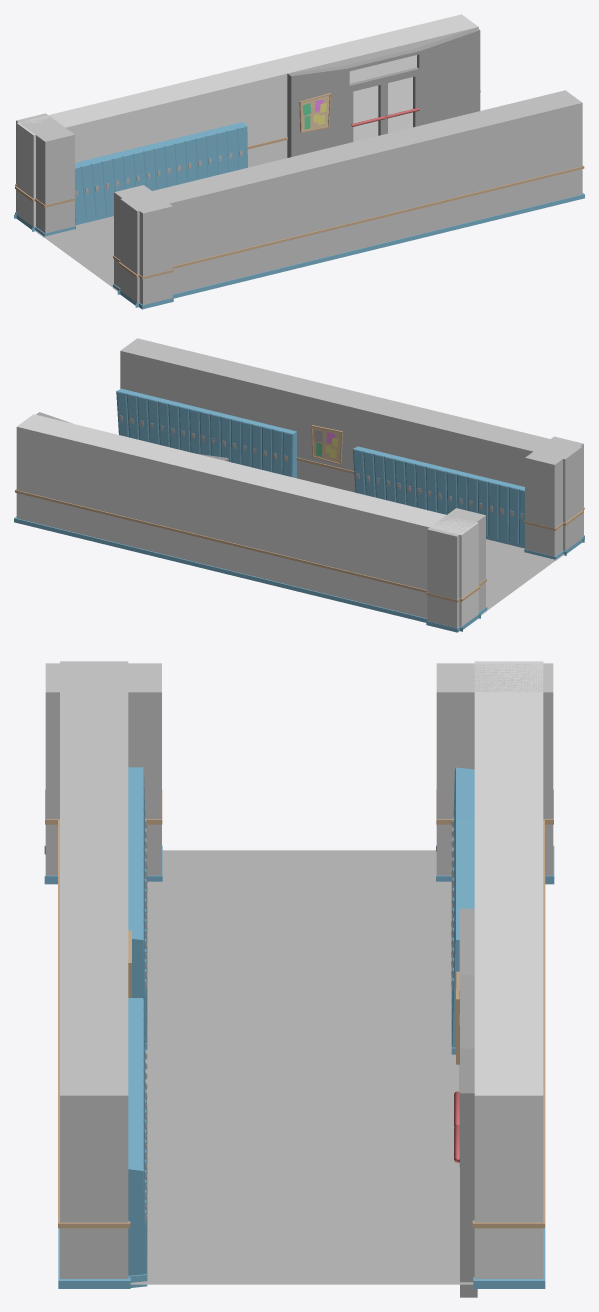
File: Tile2.fbx
The picture shows the model from 3 angles, top to bottom: view 1: azimuth 30°, elevation 25°; view 2: azimuth 150°, elevation 25°; view 3: azimuth 270°, elevation 25°; orthographic projection. The views are drawn at different scales.
Visible parts, largest first — view 1: Cube.032; view 2: Cube.032; view 3: Cube.032.
Part boxes in pixels (x1,y1,x2,y2): Cube.032: (14,14,584,309); Cube.032: (14,338,584,632); Cube.032: (44,661,554,1297).
Size of the model in its own units: 3027 by 658 by 1487.
